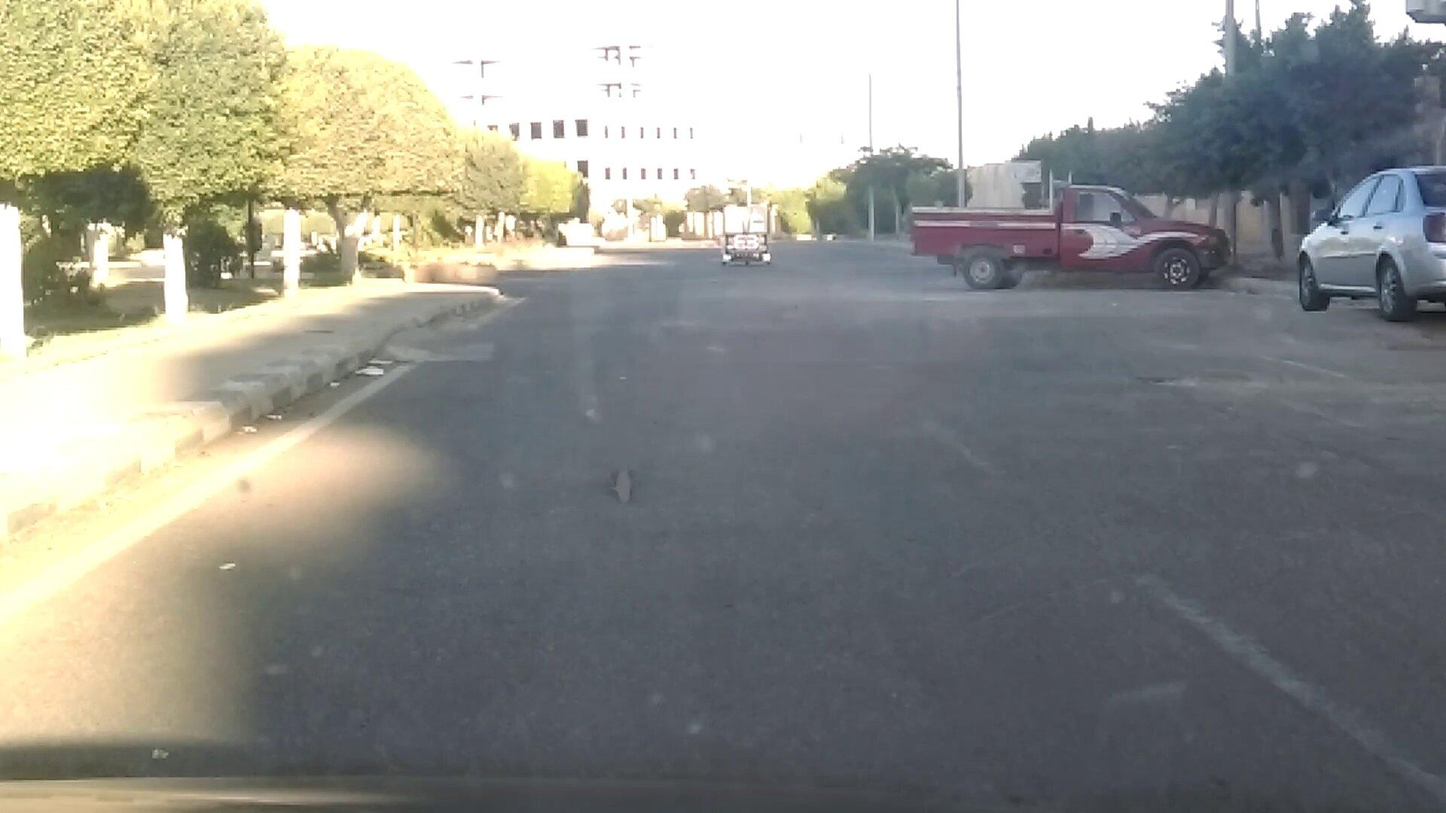Bump: (372, 305, 1410, 366)
